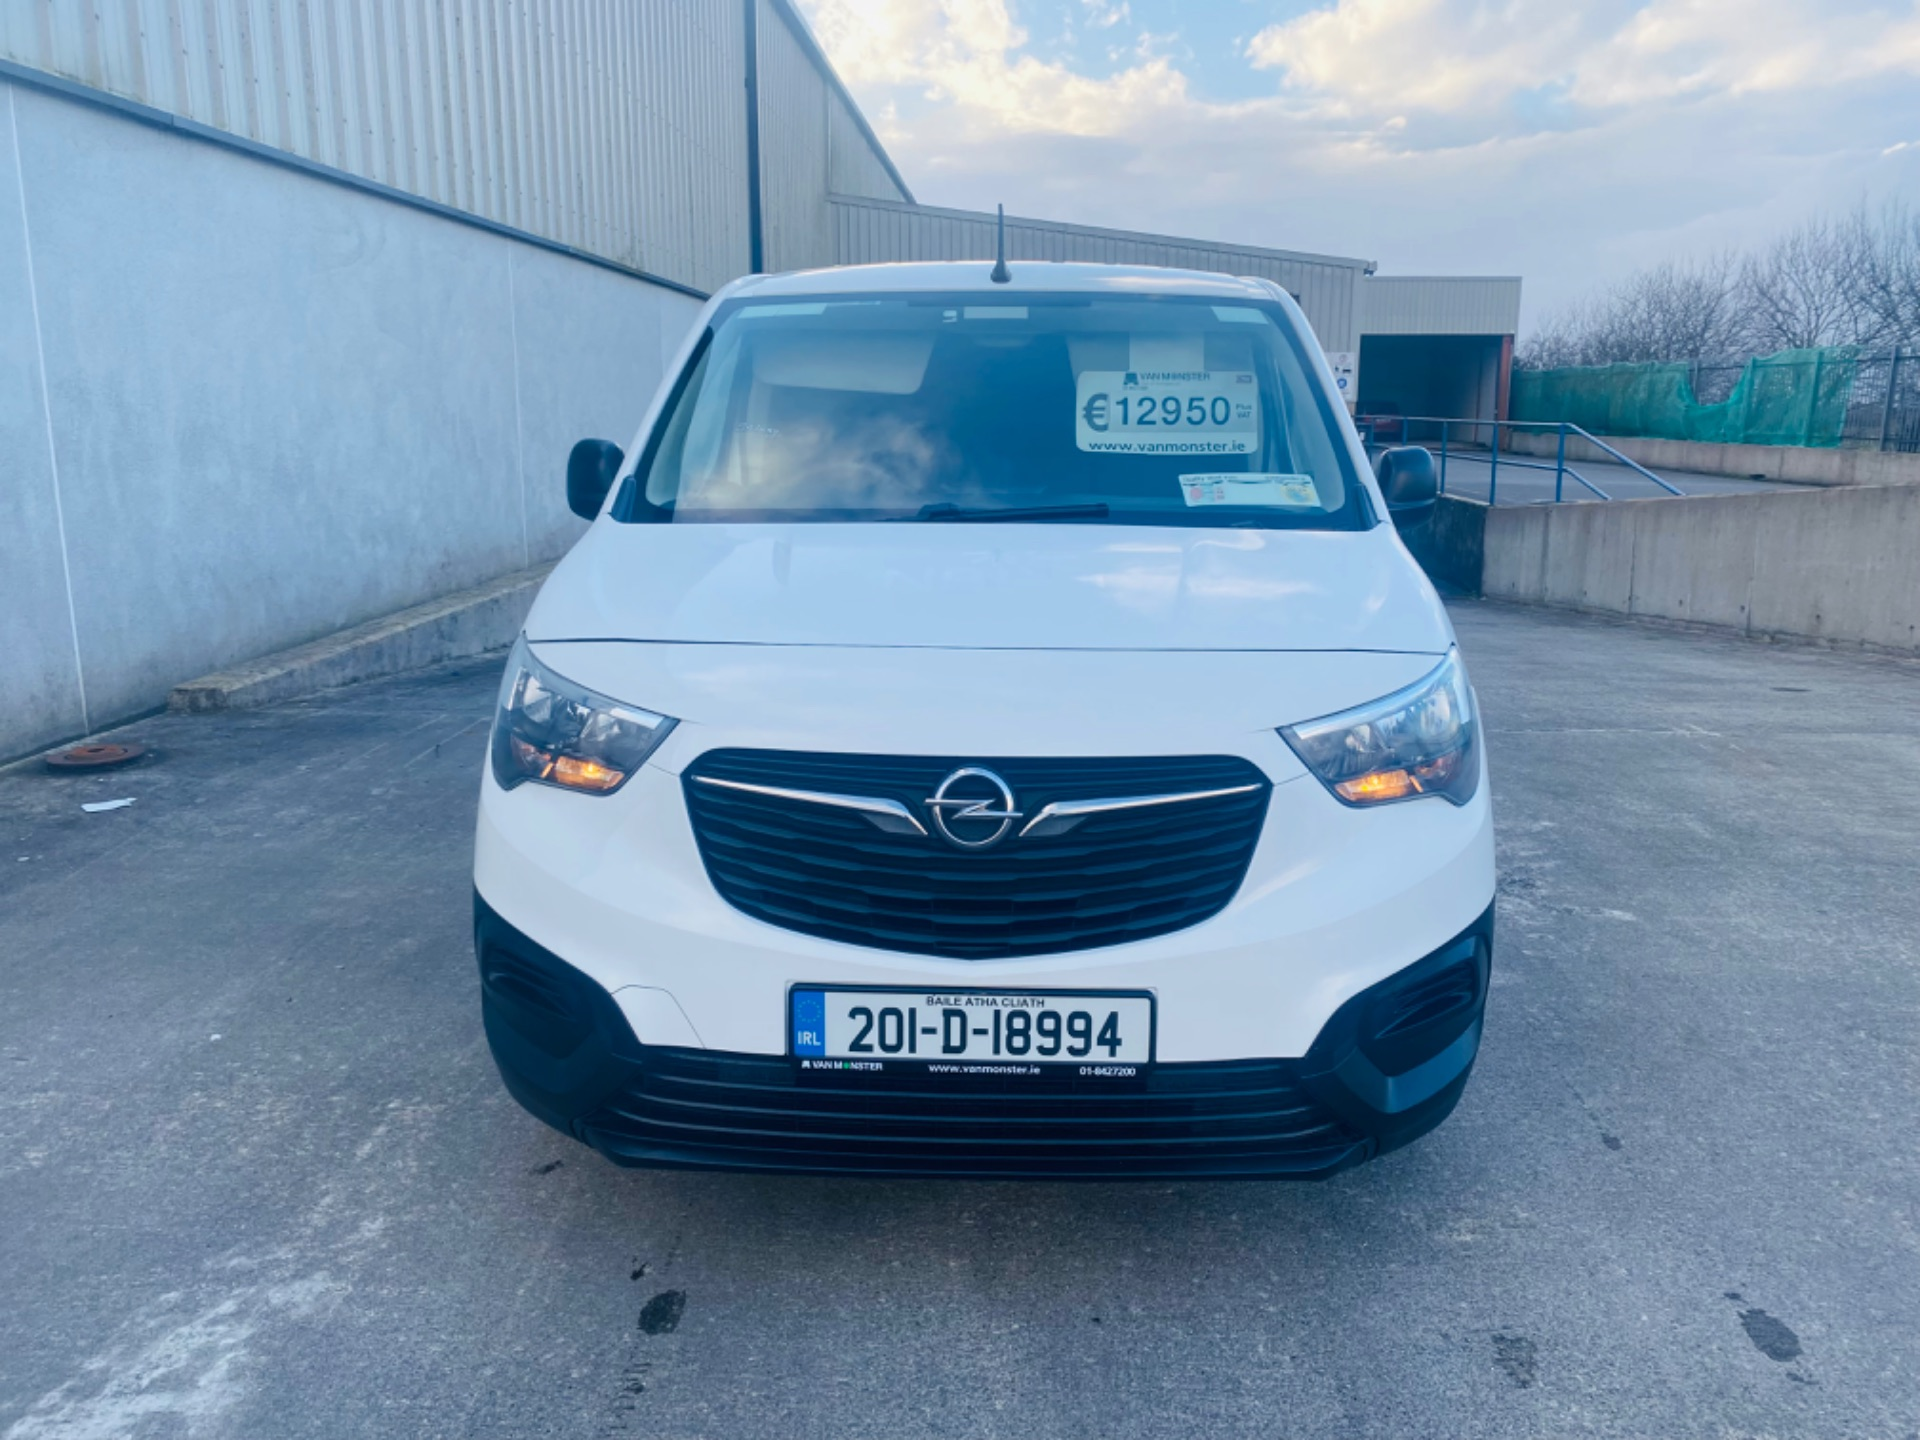car: (454, 239, 1506, 1193)
